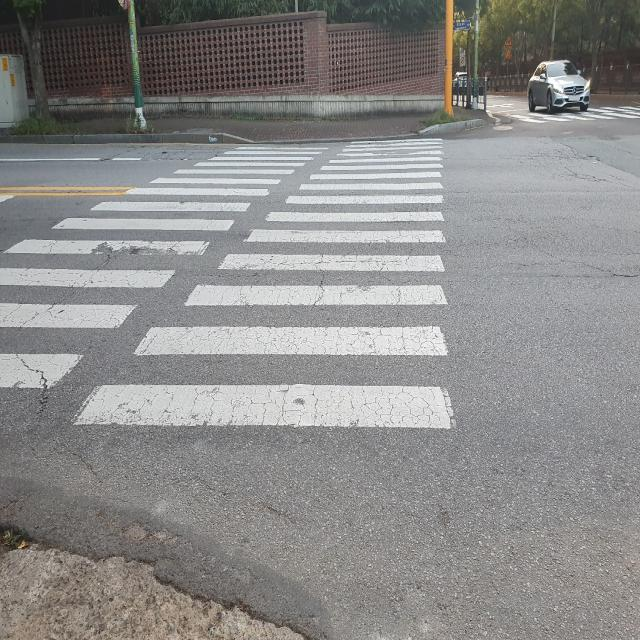횡단보도: (0, 136, 459, 436)
